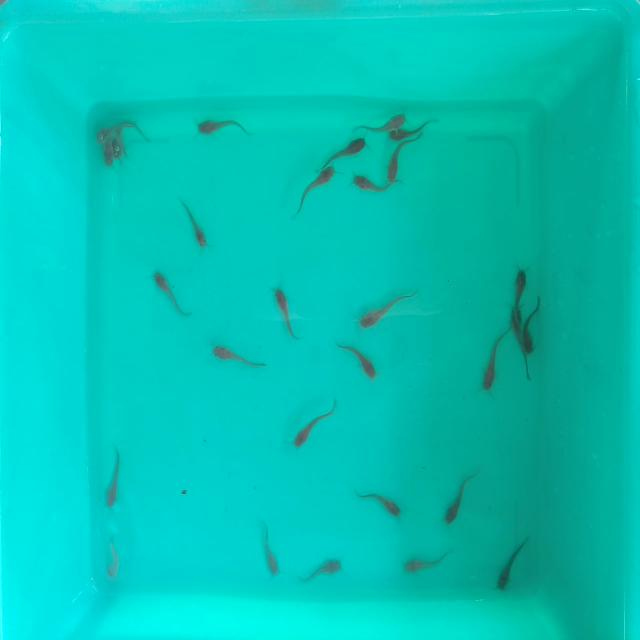lele: (289, 394, 340, 450), (289, 164, 336, 218), (357, 286, 412, 332), (335, 338, 383, 387), (496, 536, 534, 594), (443, 469, 480, 528), (349, 482, 404, 520), (151, 272, 191, 322), (268, 285, 301, 341), (178, 196, 210, 250), (210, 345, 269, 374), (483, 329, 506, 397), (322, 137, 371, 166), (256, 520, 280, 578), (402, 548, 452, 575), (508, 307, 524, 376), (195, 118, 255, 136), (300, 559, 341, 585), (106, 444, 122, 509), (354, 113, 408, 131), (388, 142, 410, 183), (524, 299, 540, 354), (512, 259, 528, 307), (350, 175, 386, 195), (388, 127, 437, 141), (108, 537, 120, 578), (103, 142, 113, 170), (113, 132, 125, 155), (96, 125, 110, 144)
